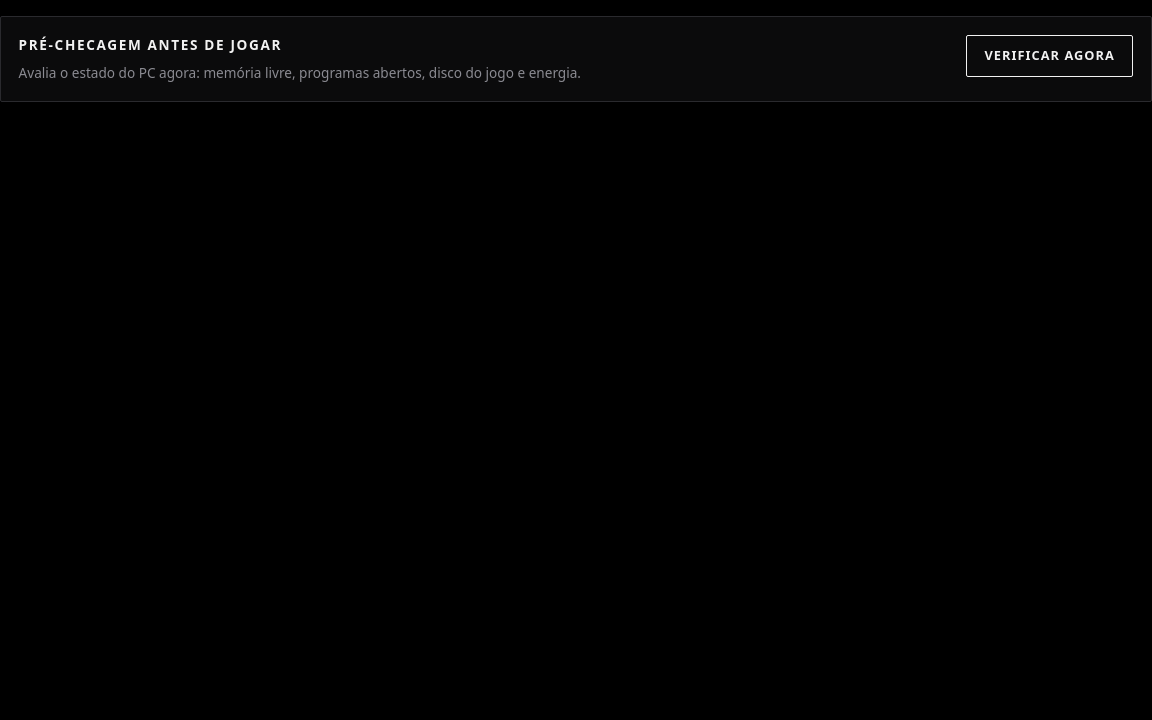
it: PrecheckPanel › só verifica quando pedido e mostra resultado, motivos e processos
This screenshot has width=1152, height=720.
Click the button "Verificar agora".
click(1050, 56)  # box top-left (966, 35), bottom-right (1133, 77)
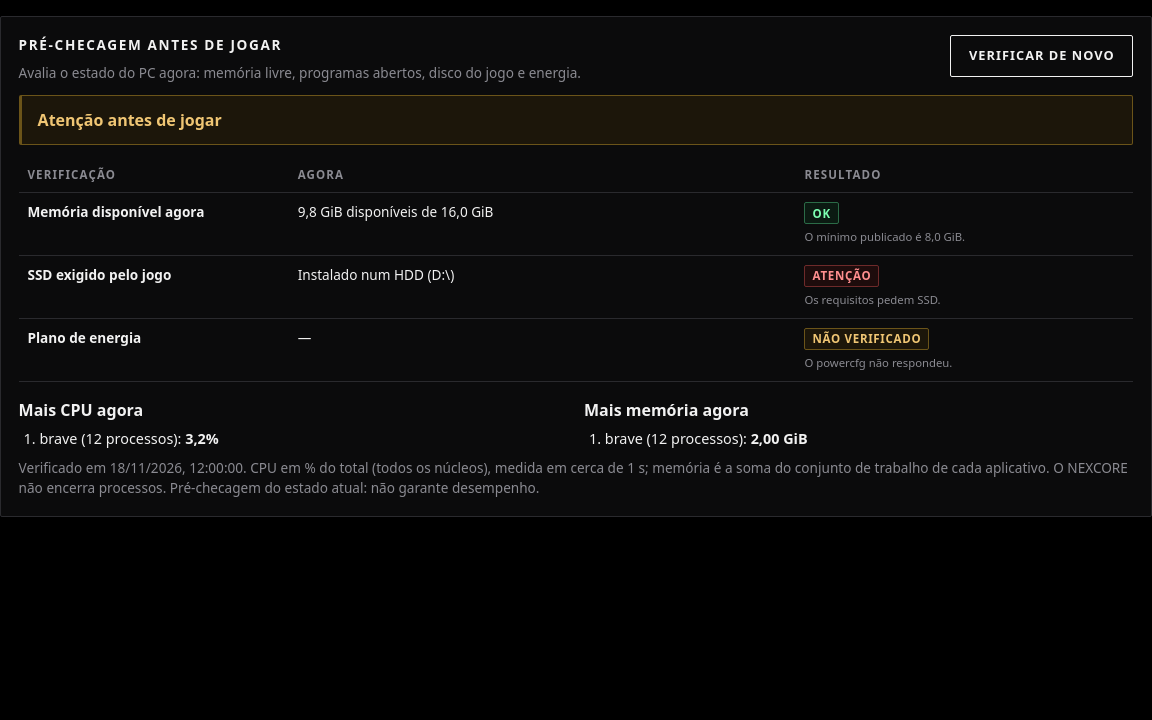
Now the text "Atenção antes de jogar" is shown, box top-left (38, 109), bottom-right (222, 131)
Now the text "Atenção" is shown, box top-left (804, 265), bottom-right (880, 287)
Now the text "Não verificado" is shown, box top-left (804, 328), bottom-right (930, 350)
